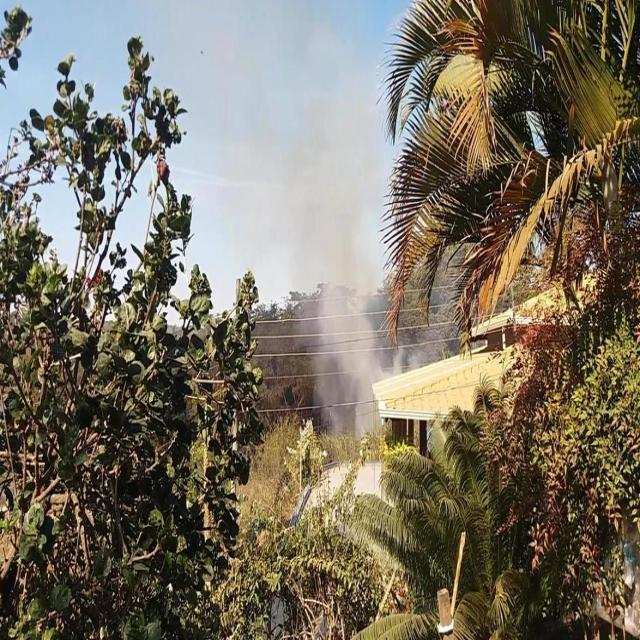Smoke: (163, 0, 418, 462)
